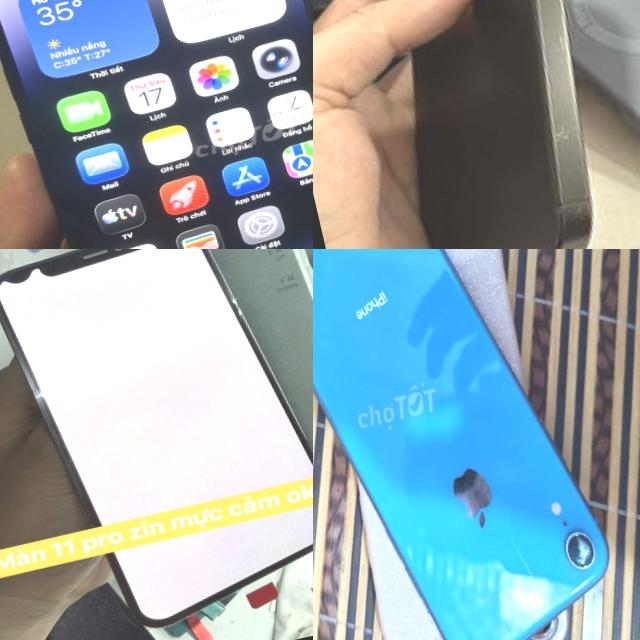scratch: (571, 524, 585, 540)
screen_defect: (0, 255, 55, 304)
